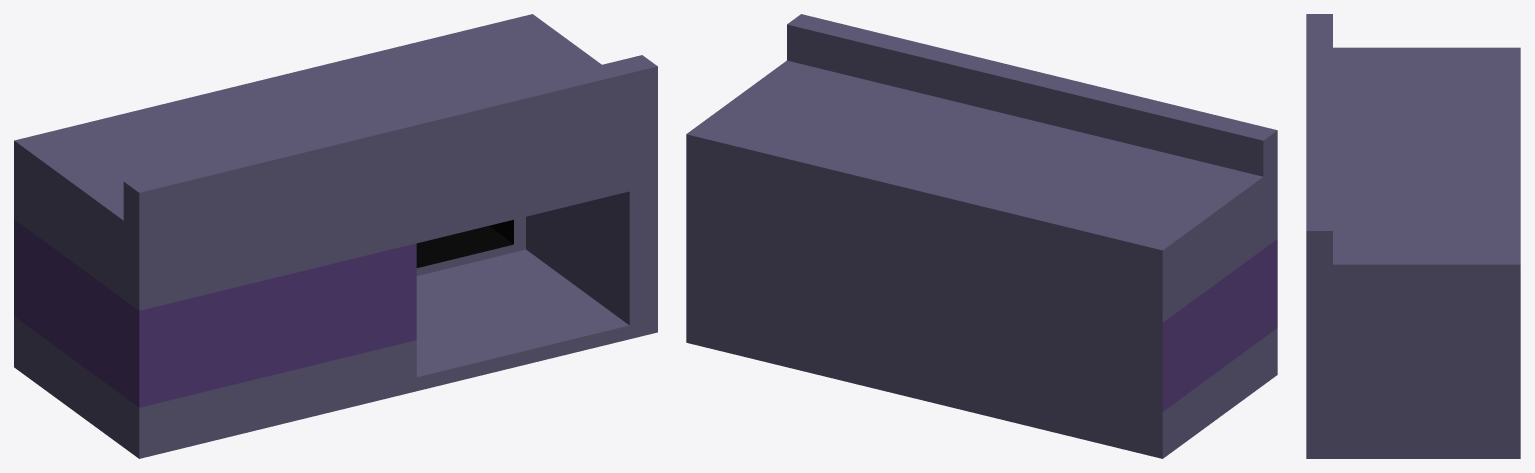
File: loja_16.fbx
3 views of the same model, side by side, from view 1: azimuth 30°, elevation 25°; view 2: azimuth 150°, elevation 25°; view 3: azimuth 270°, elevation 25° (orthographic). The views are drawn at different scales.
Visible parts, largest first — view 1: Cube; view 2: Cube; view 3: Cube.
Boxes of the visible parts, x1,y1,x2,y2 form: Cube: (14, 14, 657, 458); Cube: (686, 14, 1277, 458); Cube: (1306, 14, 1520, 458).
Bounding box in the file's own units: 5457 × 2676 × 2281.
